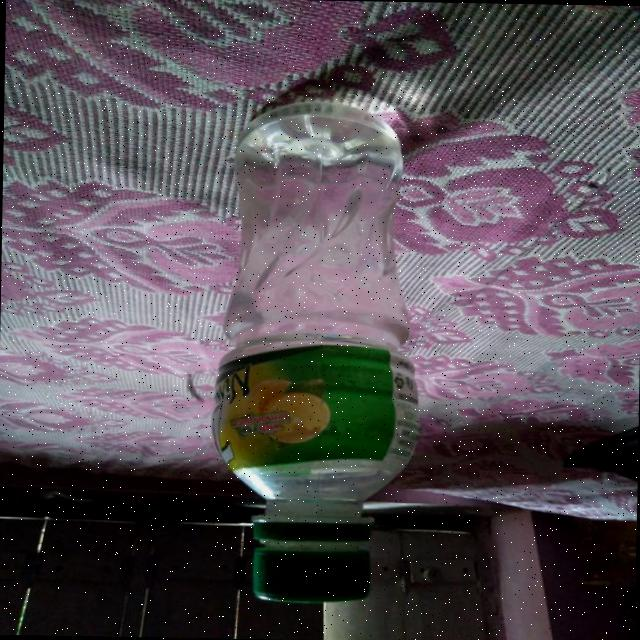bottle: (201, 84, 422, 610)
cap: (250, 544, 376, 603)
label: (175, 350, 439, 462)
